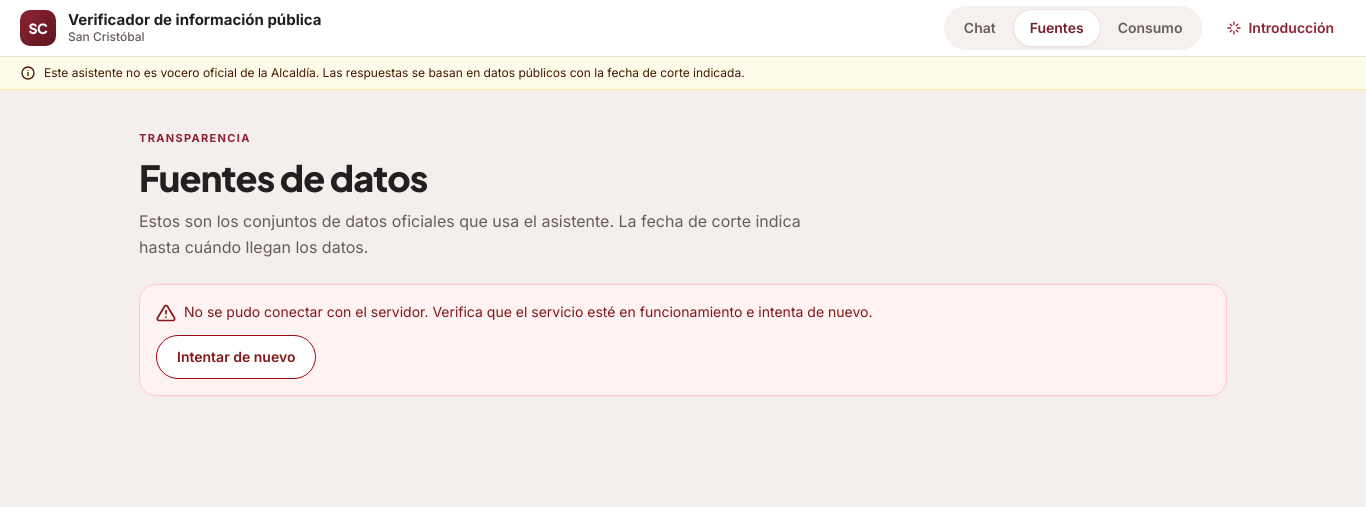
Sources page › shows an error with retry when the backend is down
Expected: the message shows "No se pudo conectar con el servidor", left=184, top=302, right=872, bottom=320
Click the button "Intentar de nuevo".
click(236, 357)  # box left=156, top=335, right=316, bottom=379
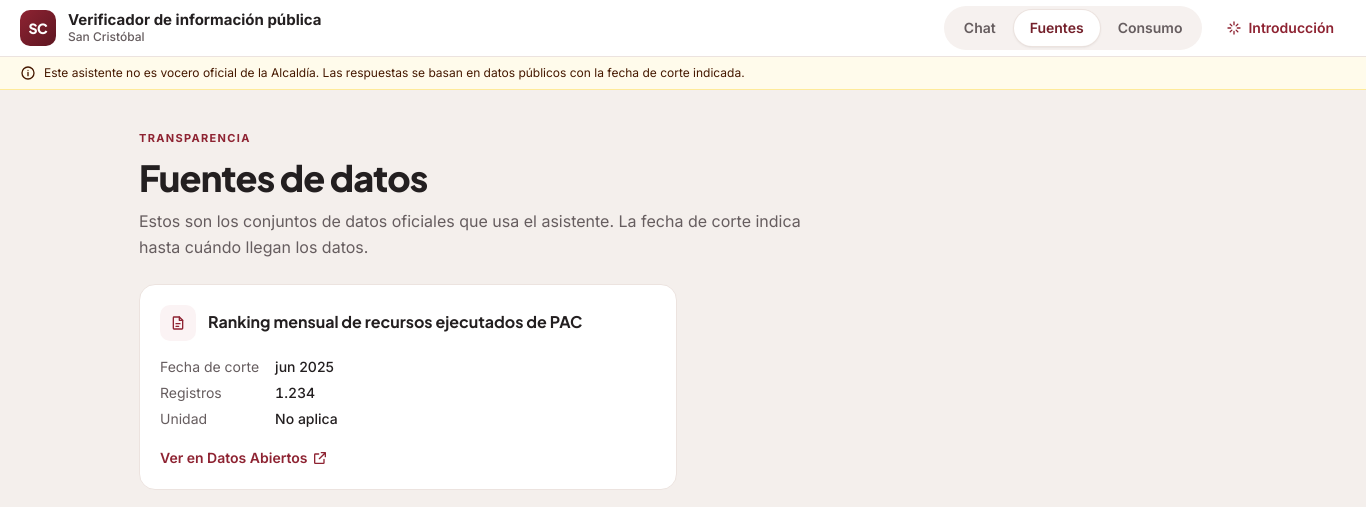
Expected: the text "No aplica" is shown, left=275, top=410, right=338, bottom=426
